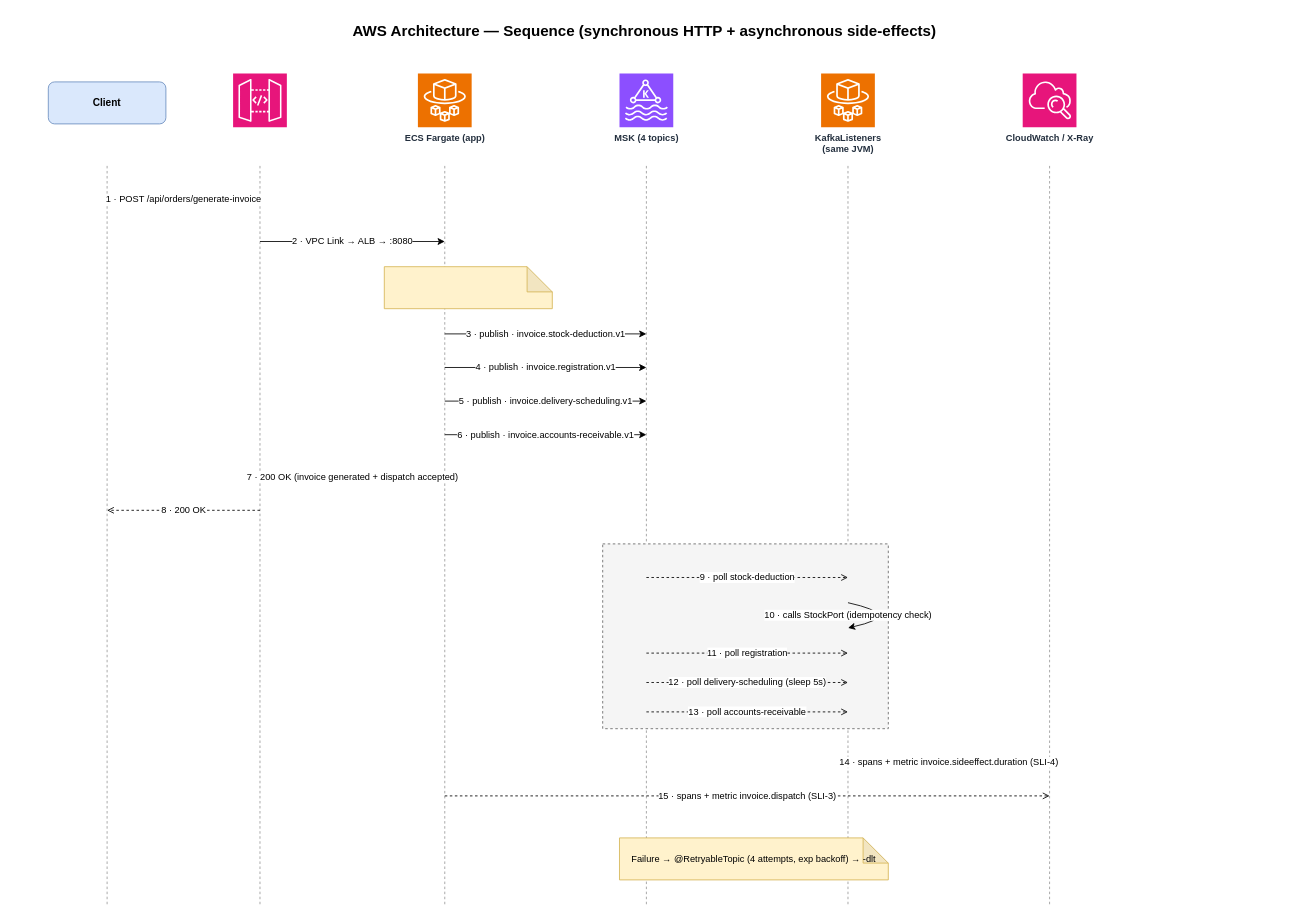
Image size: 1289x921. Some labels were removed from this diagram. Each missing label, with the box of its shape:
API Gateway: (232, 73, 287, 127)
GenerateInvoiceInteractor computes tax + freight (BigDecimal): (383, 266, 552, 309)
par · Asynchronous consumption (same Fargate task): (602, 543, 888, 729)
